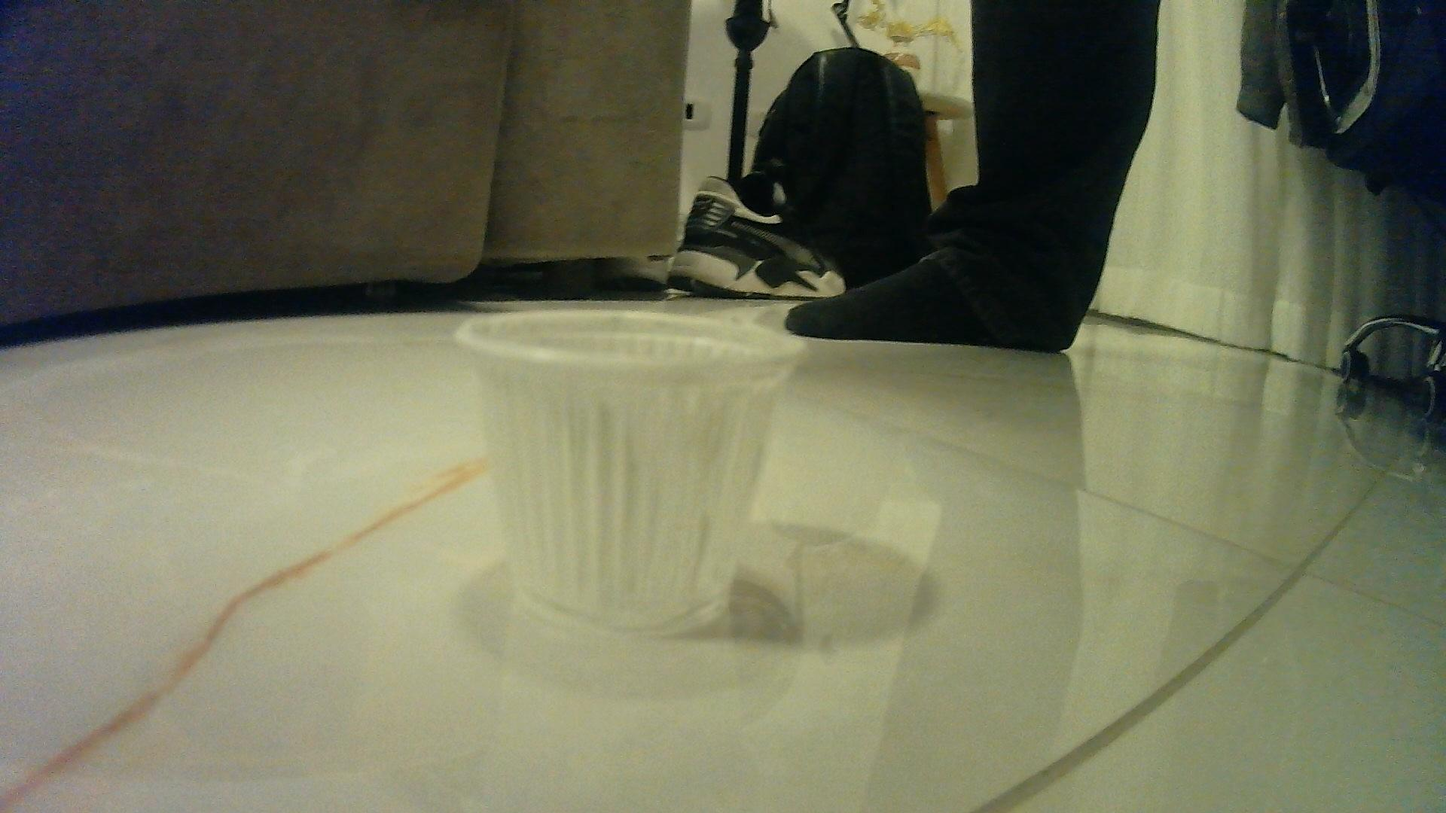vaso_quadrado: (441, 292, 809, 638)
